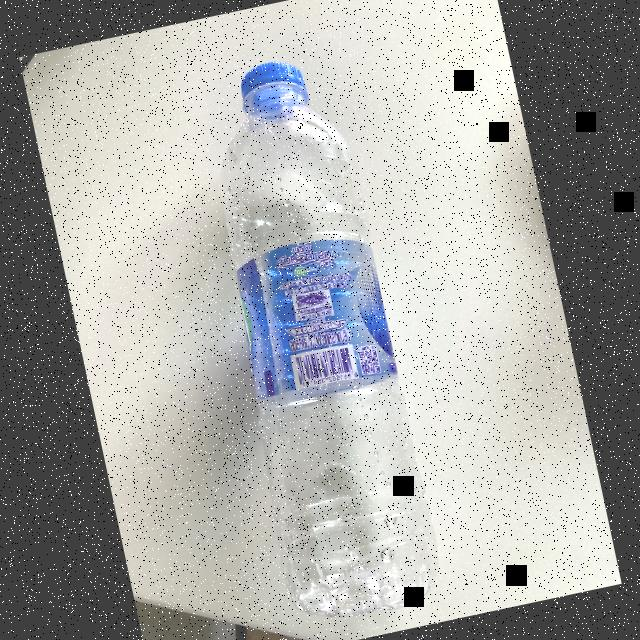plastic_bottle: (180, 42, 453, 630)
plastic_bottle_cap: (235, 56, 312, 126)
